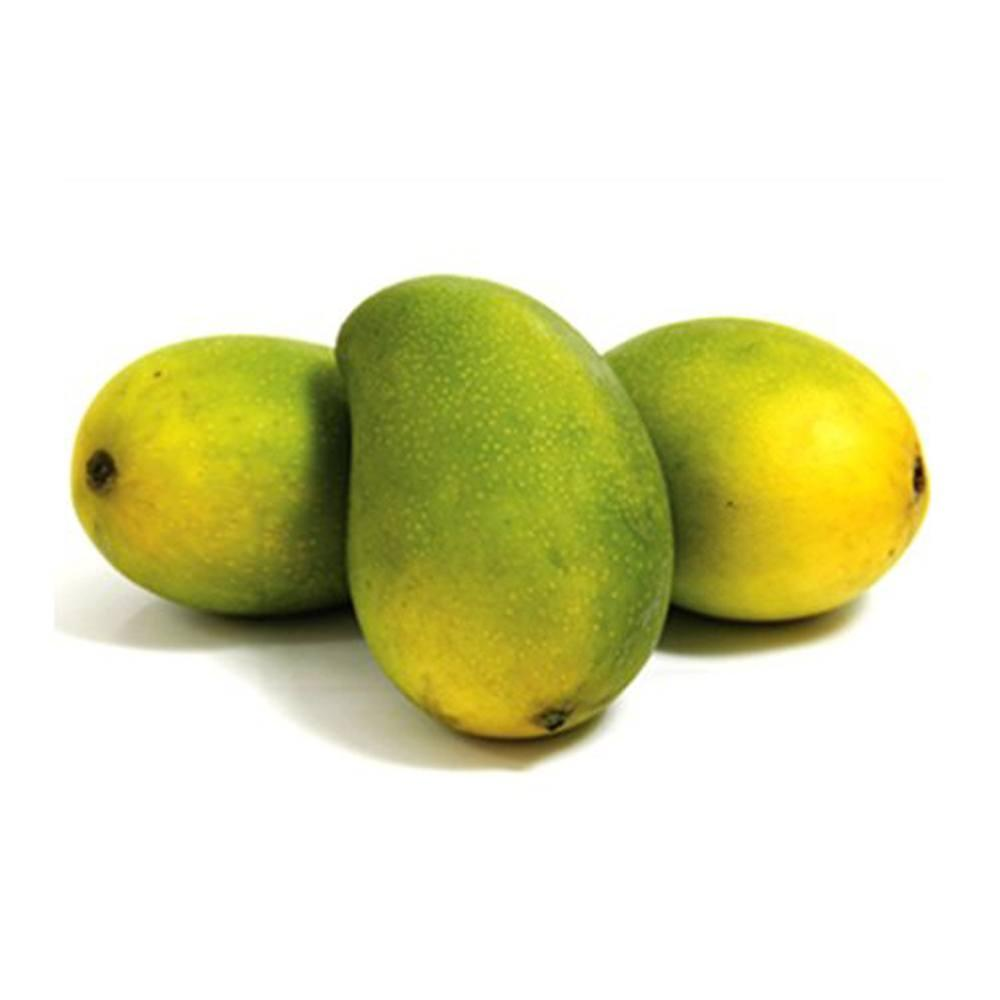mango: (333, 271, 676, 742), (600, 313, 930, 625), (69, 331, 350, 620)
